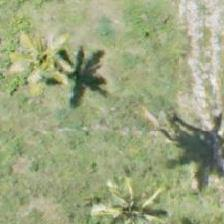Kelapa_Sawit: (121, 81, 211, 171), (0, 7, 77, 97), (67, 165, 158, 223)
